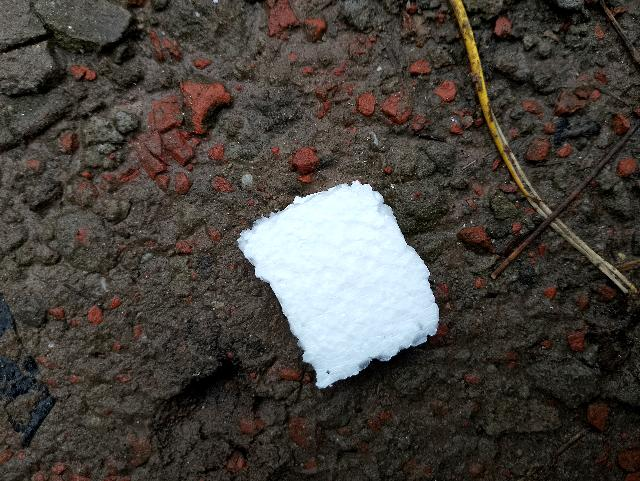cocksheet: (228, 158, 456, 394)
